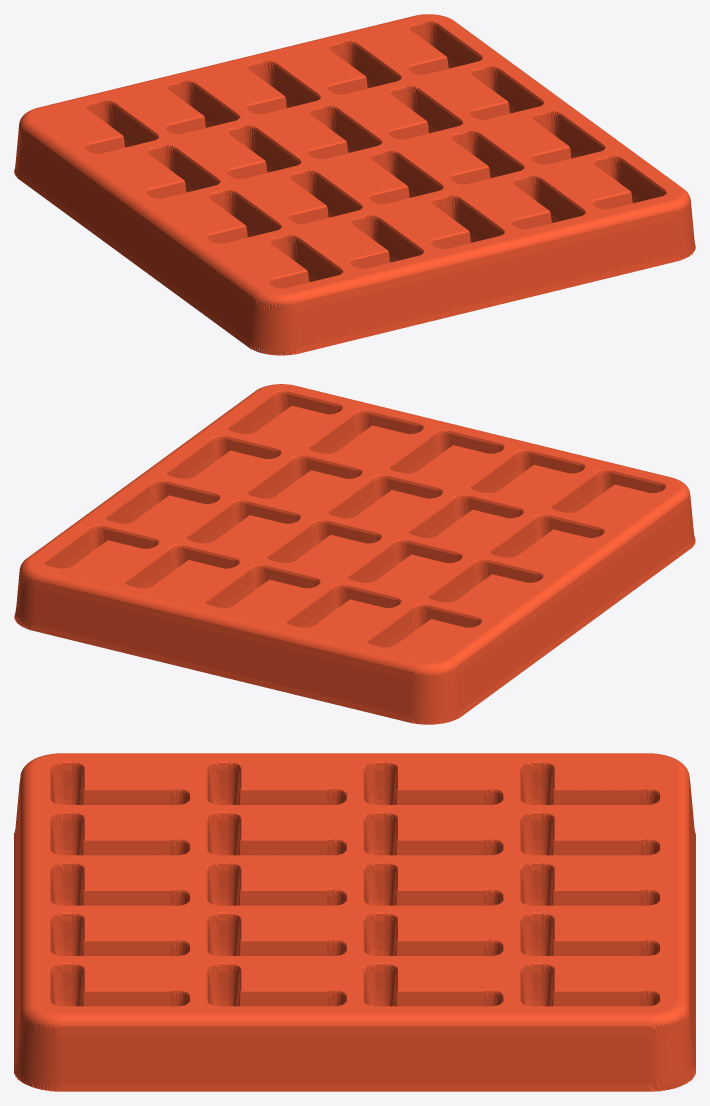
File: mold.glb
3 views of the same model, one above another, from view 1: azimuth 30°, elevation 25°; view 2: azimuth 150°, elevation 25°; view 3: azimuth 270°, elevation 25° (orthographic). The views are drawn at different scales.
Visible parts, largest first — view 1: geometry_0; view 2: geometry_0; view 3: geometry_0.
Part boxes in pixels (bbox=[...]): geometry_0: bbox=[14, 14, 695, 355]; geometry_0: bbox=[14, 384, 695, 724]; geometry_0: bbox=[14, 753, 695, 1091].
Bounding box in the file's own units: 0.122 × 0.0145 × 0.1278.
